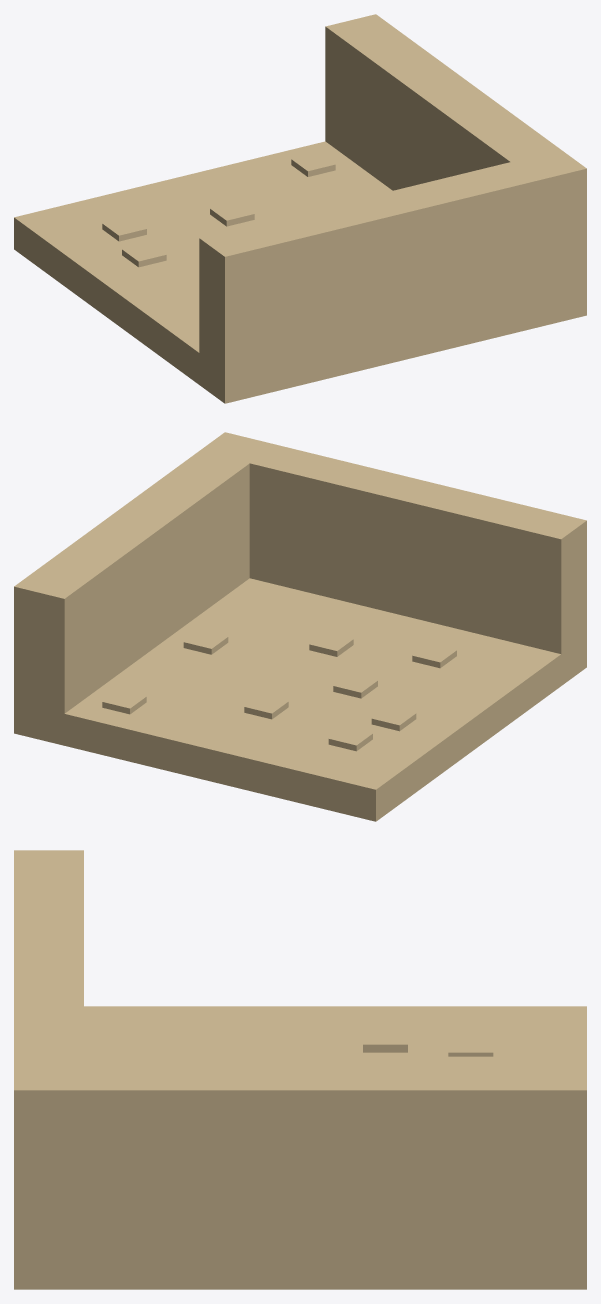
The model's file is Ocean2.fbx.
3 views of the same model, one above another, from view 1: azimuth 30°, elevation 25°; view 2: azimuth 150°, elevation 25°; view 3: azimuth 270°, elevation 25° (orthographic). The views are drawn at different scales.
Visible parts, largest first — view 1: pCube1, pasted__pCube2 (×4); view 2: pCube1, pasted__pCube2 (×7), pCube2; view 3: pCube1, pasted__pCube2 (×2).
Part boxes in pixels (bbox=[...]): pCube1: bbox=[14, 14, 586, 403]; pasted__pCube2 (×4): bbox=[102, 152, 335, 267]; pCube1: bbox=[14, 432, 586, 821]; pasted__pCube2 (×7): bbox=[102, 632, 456, 751]; pCube2: bbox=[183, 630, 228, 654]; pCube1: bbox=[14, 850, 586, 1289]; pasted__pCube2 (×2): bbox=[363, 1026, 493, 1056].
Bounding box in the file's own units: 71.06 × 27.56 × 71.74.
